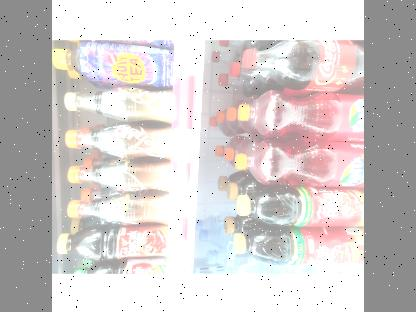Plastic Bottle: (236, 26, 364, 88), (234, 93, 364, 141), (52, 38, 172, 90), (234, 137, 364, 181), (224, 223, 364, 263), (234, 184, 364, 226), (53, 120, 177, 160), (52, 189, 168, 231), (52, 84, 174, 122), (54, 226, 176, 258), (52, 160, 172, 190)
